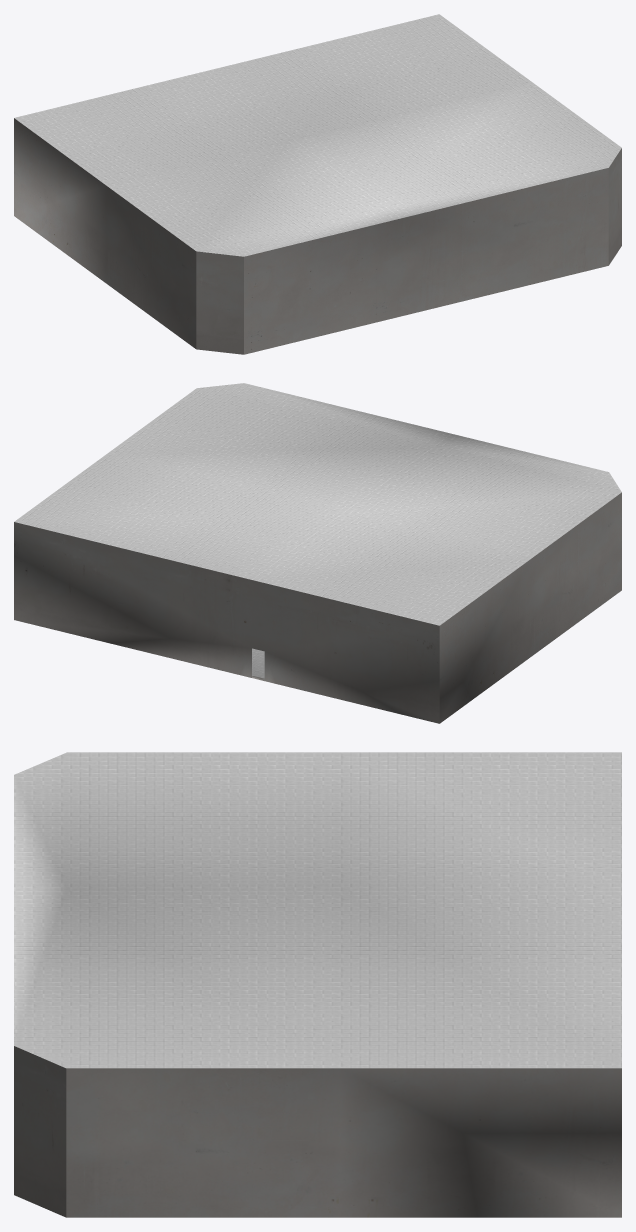
Rendered from restRoom.obj.
The picture shows the model from 3 angles, top to bottom: view 1: azimuth 30°, elevation 25°; view 2: azimuth 150°, elevation 25°; view 3: azimuth 270°, elevation 25°; orthographic projection. The views are drawn at different scales.
Parts seen in each view (by area): view 1: Cube.007; view 2: Cube.007; view 3: Cube.007.
Boxes of the visible parts, x1,y1,x2,y2 form: Cube.007: (14,14,621,354); Cube.007: (14,383,621,723); Cube.007: (14,752,621,1217).
Bounding box in the file's own units: 27 × 5.95 × 21.95.
1 material, 1 textured.
